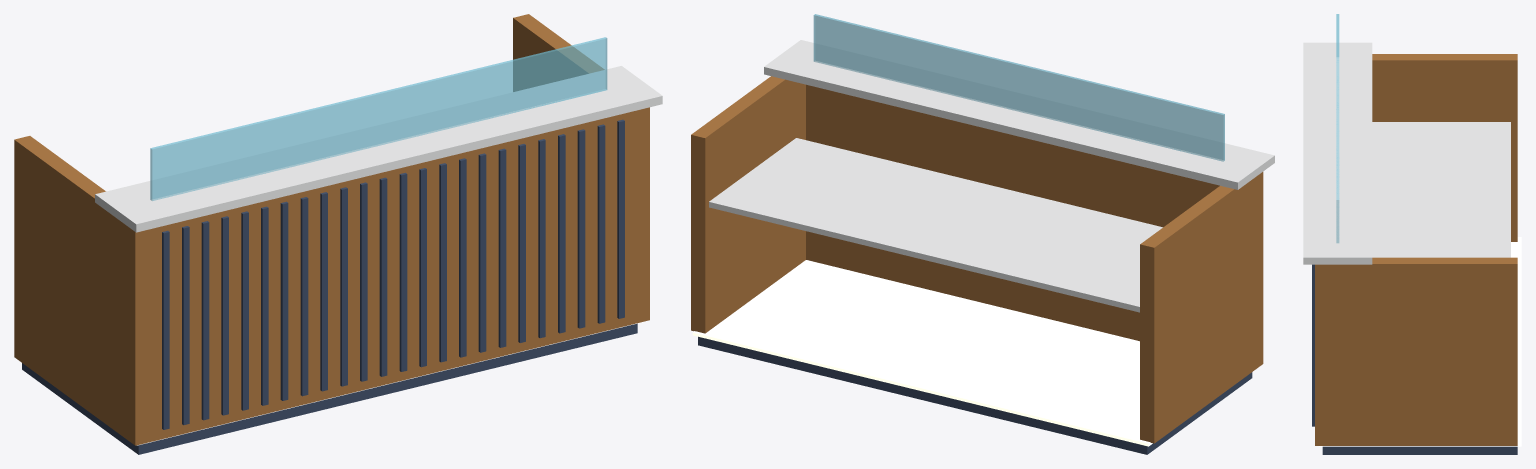
The model's file is meja_resepsionis.glb.
3 views of the same model, side by side, from view 1: azimuth 30°, elevation 25°; view 2: azimuth 150°, elevation 25°; view 3: azimuth 270°, elevation 25° (orthographic). The views are drawn at different scales.
Parts seen in each view (by area): view 1: Meja_Resepsionis_Lobi; view 2: Meja_Resepsionis_Lobi; view 3: Meja_Resepsionis_Lobi.
Part boxes in pixels (x1,y1,x2,y2): Meja_Resepsionis_Lobi: (14, 14, 662, 454); Meja_Resepsionis_Lobi: (691, 14, 1274, 454); Meja_Resepsionis_Lobi: (1303, 14, 1521, 454).
Size of the model in its own units: 2.66 by 1.42 by 1.14.
